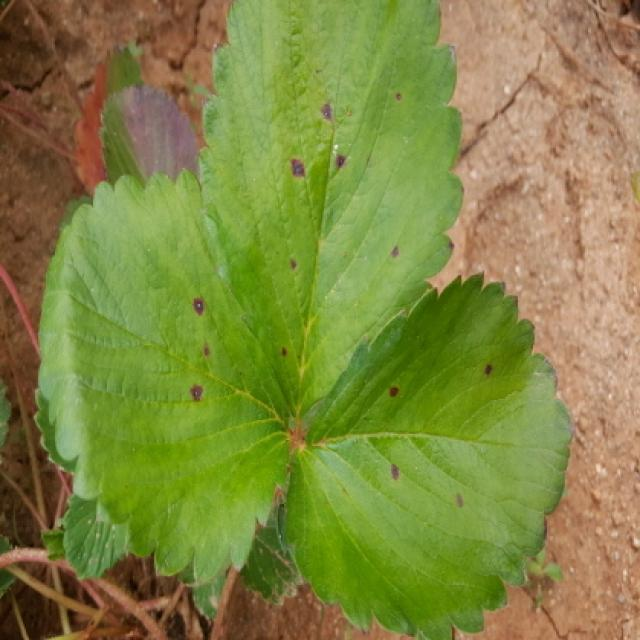Leaf Spot: (196, 0, 464, 438), (275, 271, 575, 638), (35, 168, 295, 587)
